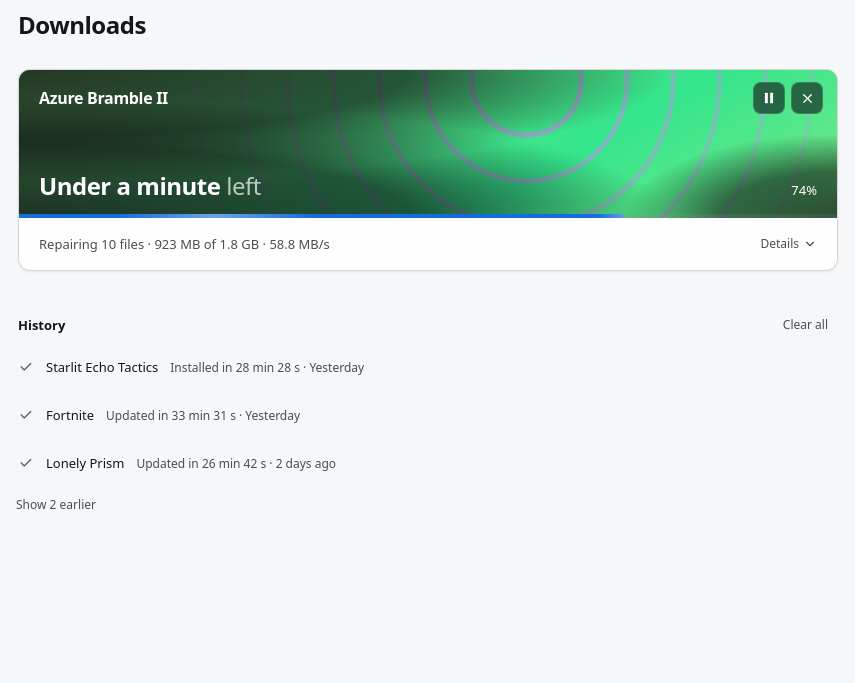
it: the card, running › a repair names how many files and keeps the download chart
Click the button named "show details": (789, 244) [752,232,825,256]
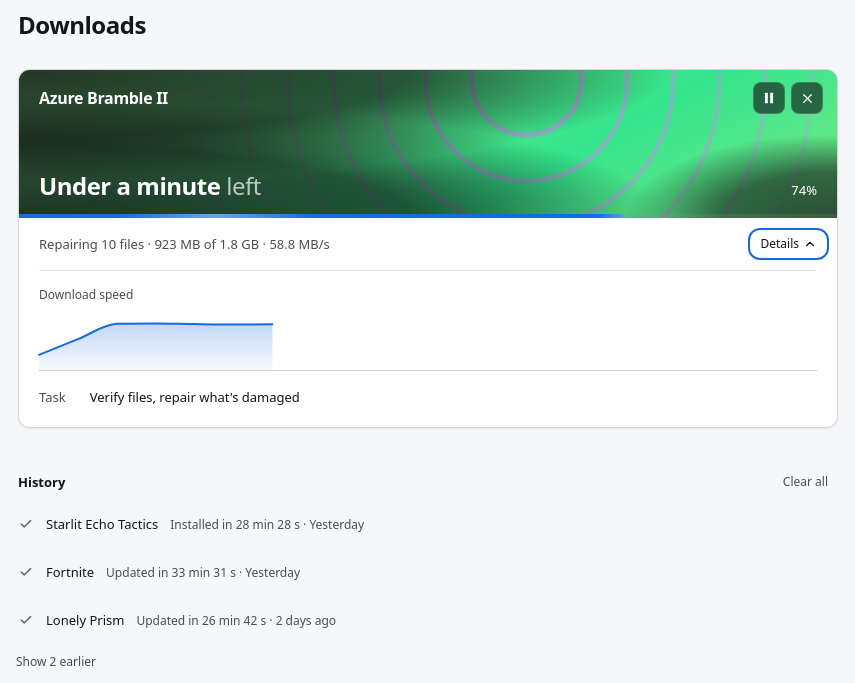
Check: the element named "Download speed over time" is shown, box [39,307,817,371]
